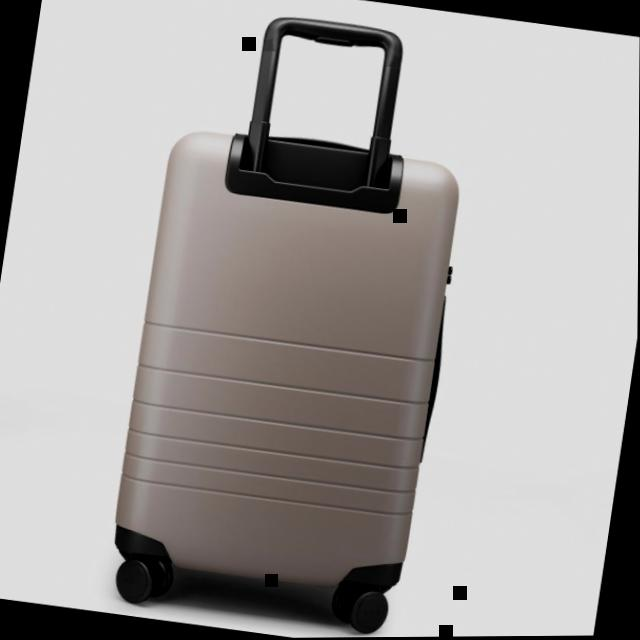luggage: (102, 112, 482, 616)
